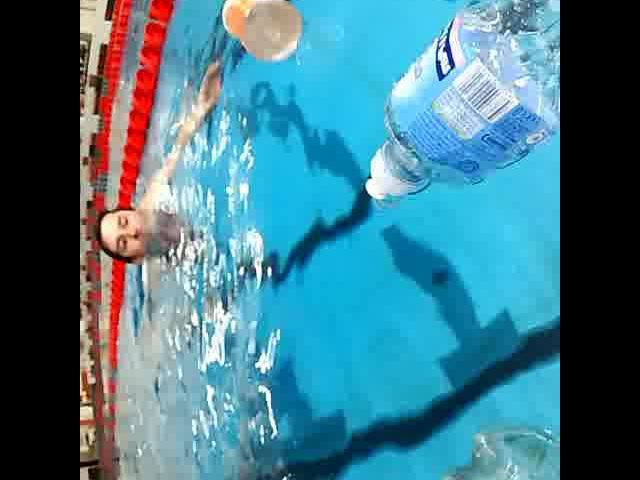Bottle: (359, 0, 560, 207), (434, 412, 560, 480), (214, 0, 312, 67)
